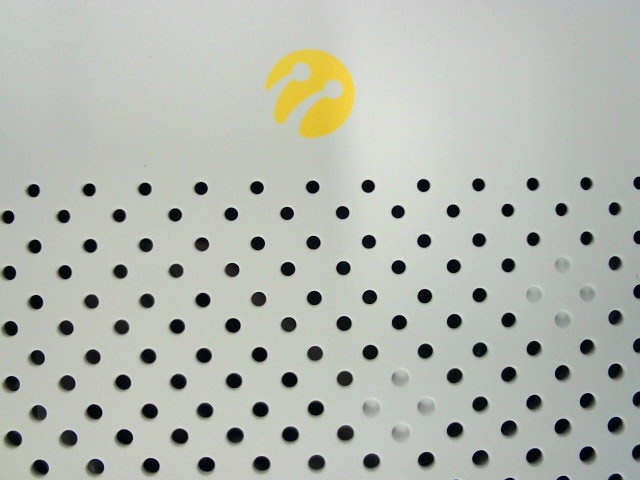AV_H3600Yellow: (255, 40, 364, 151)
